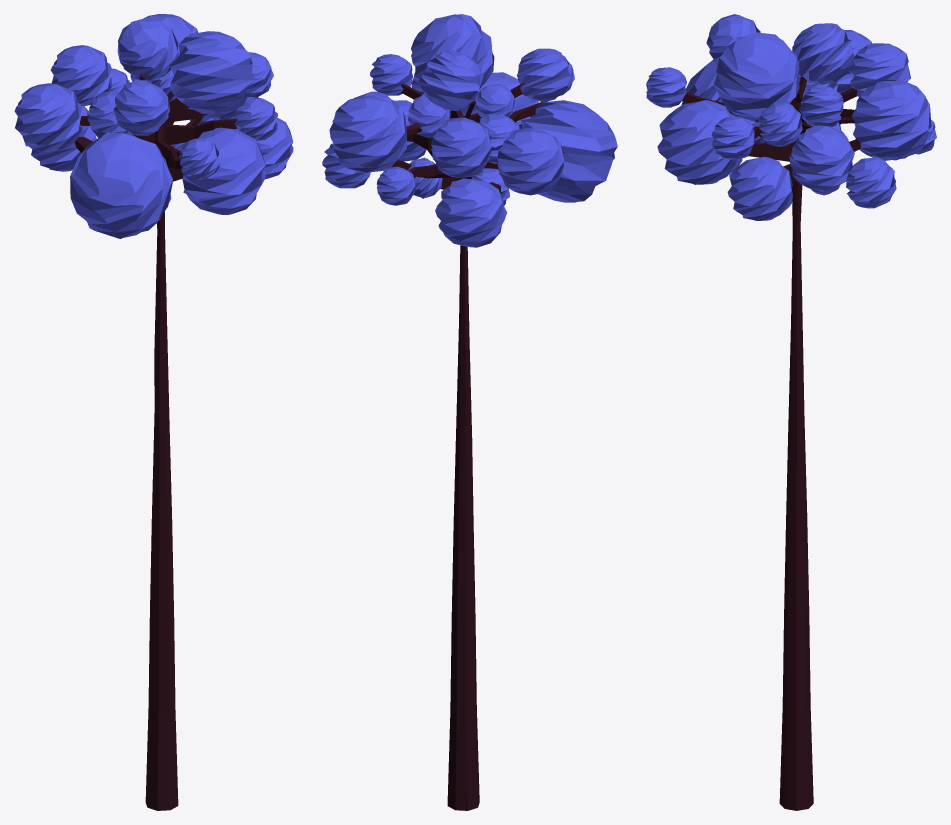
The model's file is tree1.fbx.
The picture shows the model from 3 angles, left to right: view 1: azimuth 30°, elevation 25°; view 2: azimuth 150°, elevation 25°; view 3: azimuth 270°, elevation 25°; orthographic projection. The views are drawn at different scales.
Visible parts, largest first — view 1: Cylinder, Cube.011, Cube.009, Cube.007, Cube.013, Cube.015, Cube.014, Cube.010, Cube.006, Cube.008, Cube.005, Cube.016 (+3 smaller); view 2: Cylinder, Cube.011, Cube.001, Cube.012, Cube.013, Cube.009, Cube.014, Cube.015, Cube.010, Cube.004, Cube.002, Cube.019 (+6 smaller); view 3: Cylinder, Cube.009, Cube.001, Cube.007, Cube.003, Cube.005, Cube.015, Cube.014, Cube, Cube.004, Cube.006, Cube.019 (+4 smaller).
Part boxes in pixels (x1,y1,x2,y2): Cylinder: (74,76,237,810); Cube.011: (70,132,172,238); Cube.009: (169,31,254,113); Cube.007: (181,127,265,214); Cube.013: (14,83,82,152); Cube.015: (117,16,178,81); Cube.014: (50,45,111,106); Cube.010: (113,79,169,135); Cube.006: (234,98,277,140); Cube.008: (178,138,220,179); Cube.005: (234,117,293,179); Cube.016: (87,91,131,137); Cylinder: (392,83,546,810); Cube.011: (520,100,617,202); Cube.001: (329,95,406,172); Cube.012: (435,178,507,247); Cube.013: (497,127,563,195); Cube.009: (411,14,494,85); Cube.014: (431,117,491,178); Cube.015: (419,50,483,110); Cube.010: (517,48,570,102); Cube.004: (370,54,412,95); Cube.002: (377,166,415,205); Cube.019: (408,94,450,138); Cylinder: (682,76,860,810); Cube.009: (714,32,799,121); Cube.001: (851,81,931,160); Cube.007: (657,100,742,184); Cube.003: (789,125,854,191); Cube.005: (727,156,792,220); Cube.015: (792,23,854,84); Cube.014: (849,43,910,96); Cube: (846,157,896,208); Cube.004: (758,103,802,146); Cube.006: (711,116,754,160); Cube.019: (799,85,843,126).
Size of the model in its own units: 1567 by 5065 by 1708.
